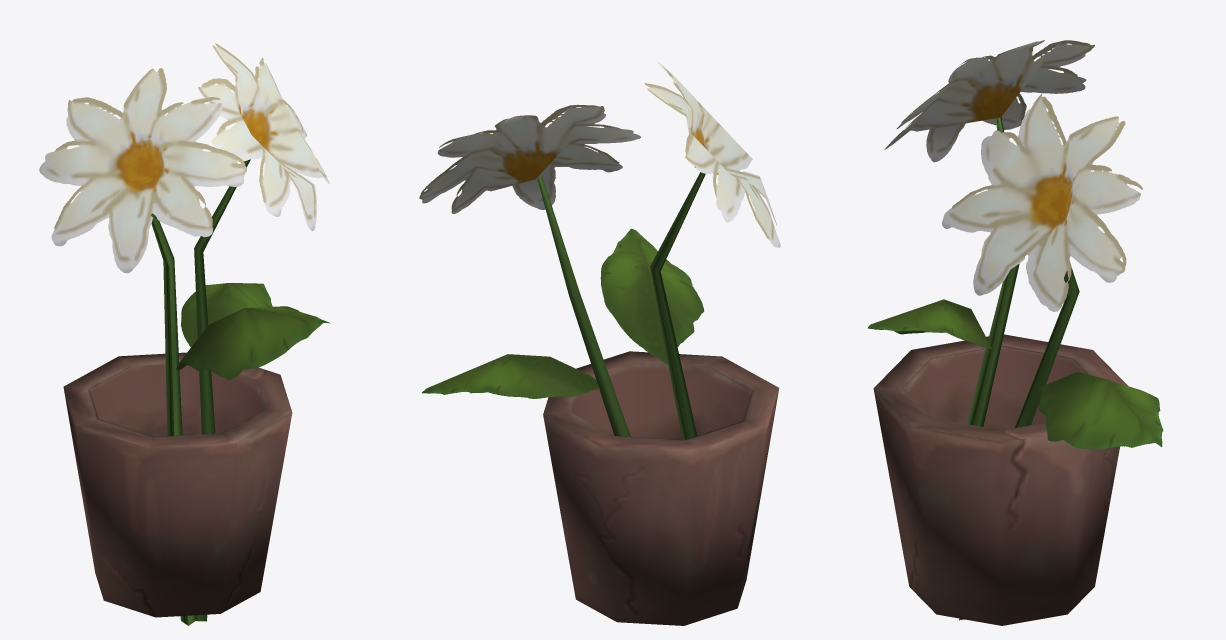
The model's file is jarroFlorBranca.fbx.
3 views of the same model, side by side, from view 1: azimuth 30°, elevation 25°; view 2: azimuth 150°, elevation 25°; view 3: azimuth 270°, elevation 25° (orthographic). The views are drawn at different scales.
Parts seen in each view (by area): view 1: rosaBranca_.001; view 2: rosaBranca_.001; view 3: rosaBranca_.001.
Part boxes in pixels (bbox=[...]): rosaBranca_.001: bbox=[39, 43, 330, 625]; rosaBranca_.001: bbox=[419, 62, 780, 625]; rosaBranca_.001: bbox=[867, 40, 1163, 625].
Size of the model in its own units: 21.13 by 31.75 by 18.27.
